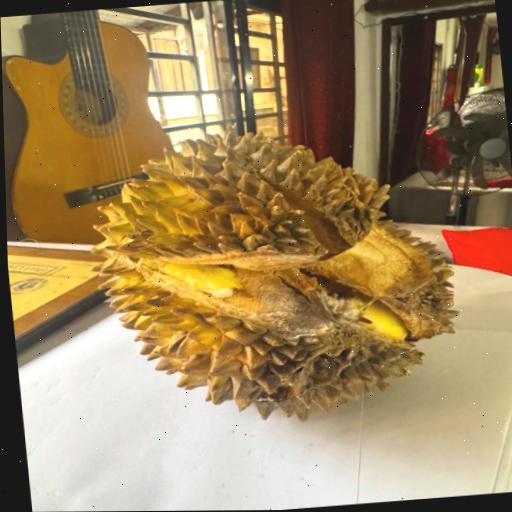mold: (209, 238, 403, 391)
rot: (66, 110, 471, 445)
